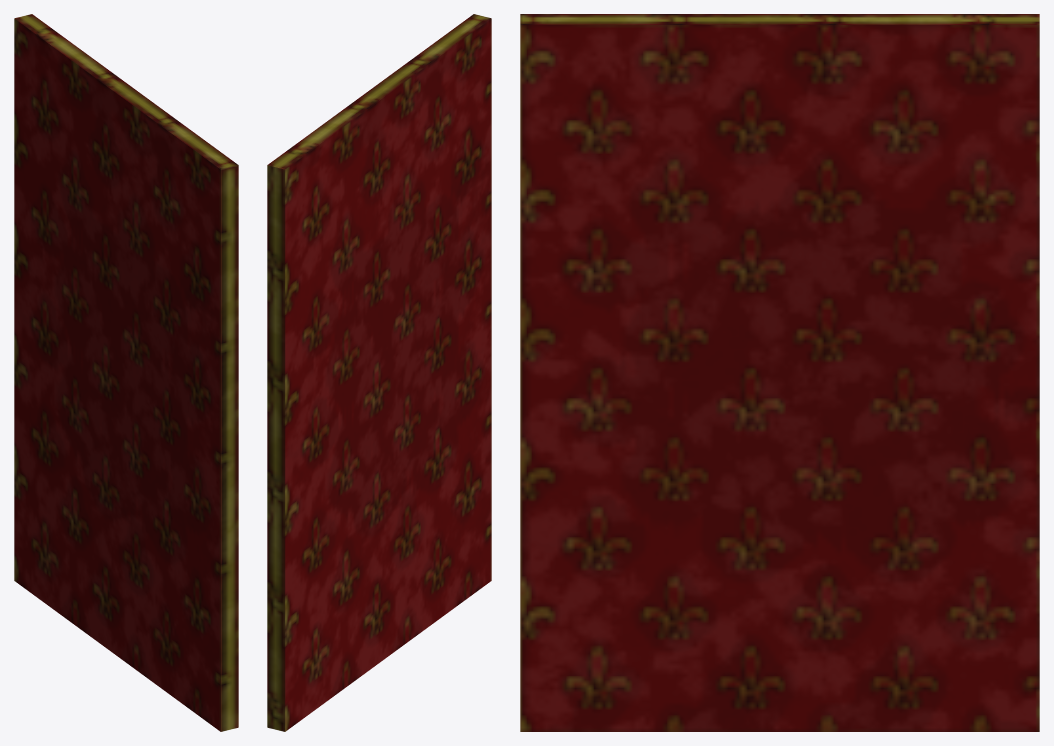
The model's file is wall_2m_01.fbx.
3 renders of one model, left to right at view 1: azimuth 30°, elevation 25°; view 2: azimuth 150°, elevation 25°; view 3: azimuth 270°, elevation 25°, orthographic. The views are drawn at different scales.
Parts seen in each view (by area): view 1: wall_2m_01; view 2: wall_2m_01; view 3: wall_2m_01.
Boxes of the visible parts, x1,y1,x2,y2 form: wall_2m_01: (14,14,238,731); wall_2m_01: (267,14,491,731); wall_2m_01: (520,14,1039,731).
Bounding box in the file's own units: 10 × 300 × 200.
1 material, 1 textured.
